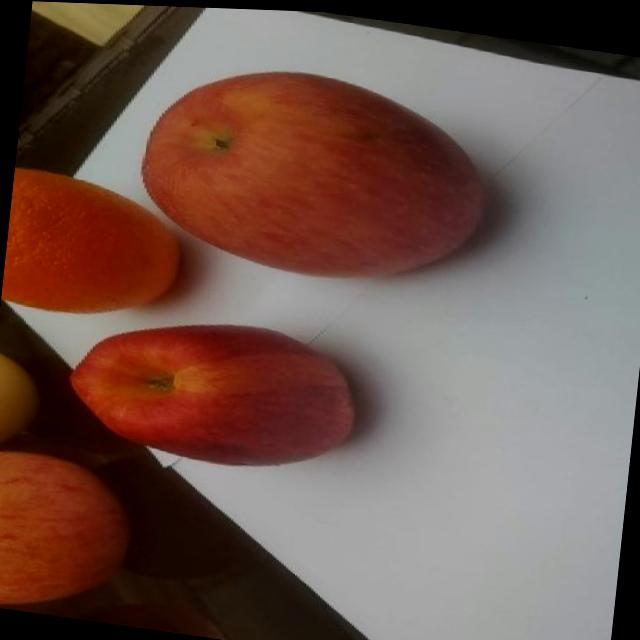Apple: (132, 48, 499, 295), (63, 298, 364, 479), (0, 445, 139, 623)
Orange: (1, 164, 189, 327)
